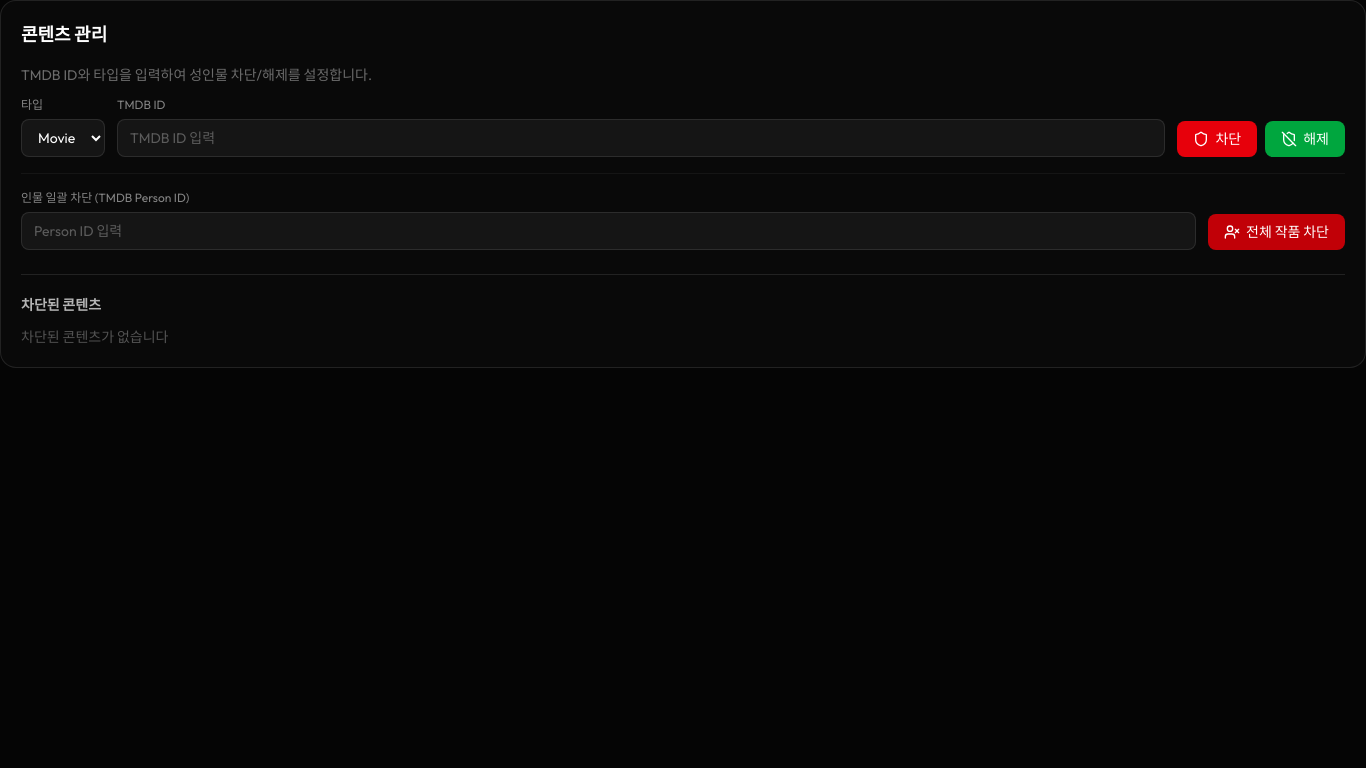
Scenario: ContentManagement › 차단 버튼 클릭 시 확인 모달을 표시해야 한다
Type "12345" into the number field labelled "TMDB ID" at (641, 138), box [117, 119, 1166, 157]
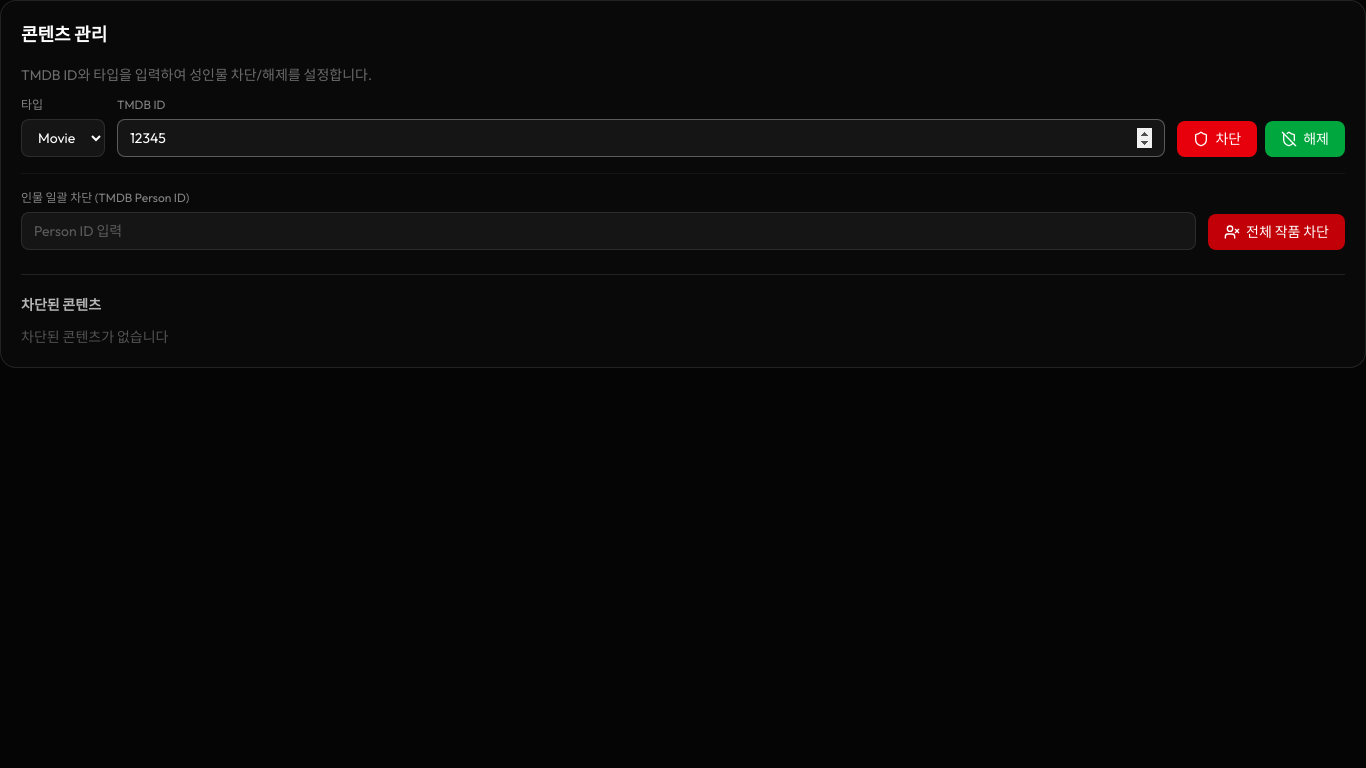
Click the button "차단" at (1217, 139), box [1178, 121, 1257, 157]
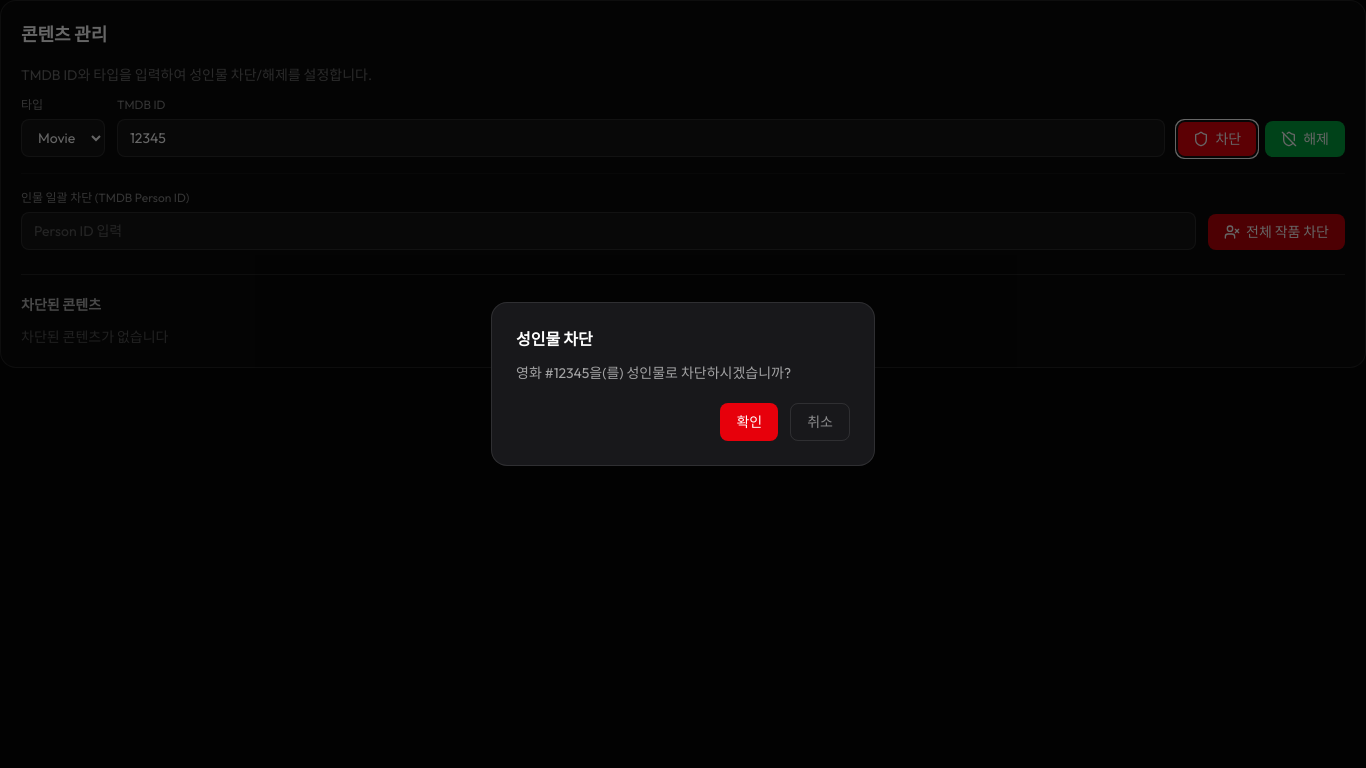
Result: the heading "성인물 차단" is shown at [516, 329, 593, 349]
Result: the text "영화 #12345을(를) 성인물로 차단하시겠습니까?" is shown at [516, 364, 791, 382]
